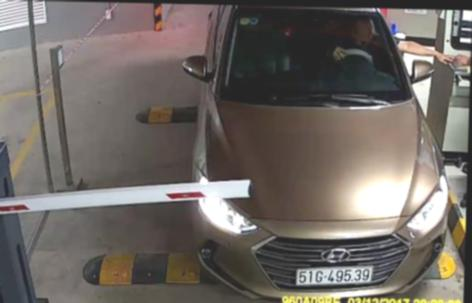License_Plate: (294, 262, 374, 287)
